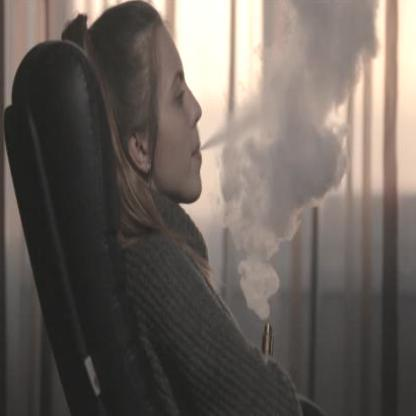person: (75, 0, 211, 415)
smoke: (212, 0, 379, 323)
